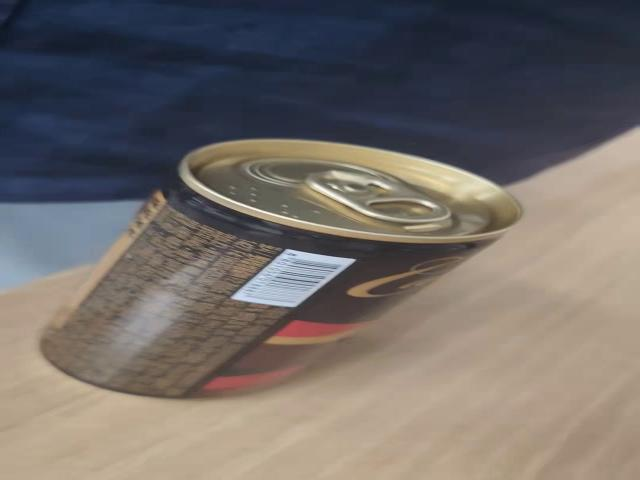Canned_drinks: (41, 140, 518, 397)
